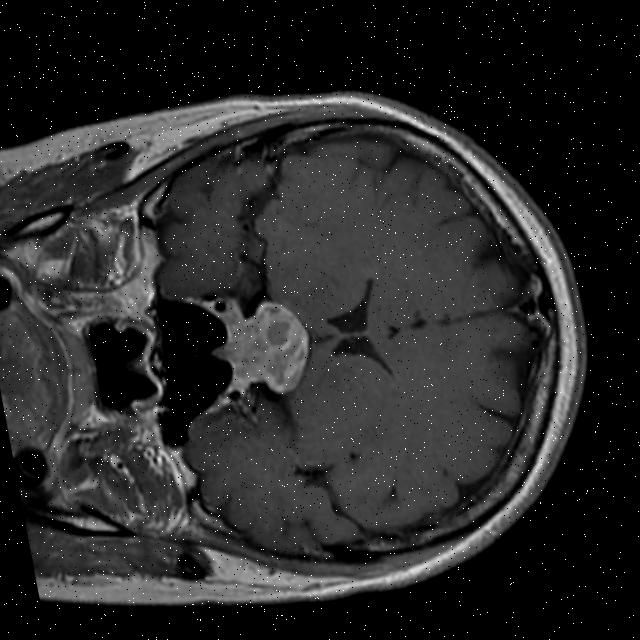Pituitary: (201, 289, 321, 408)
